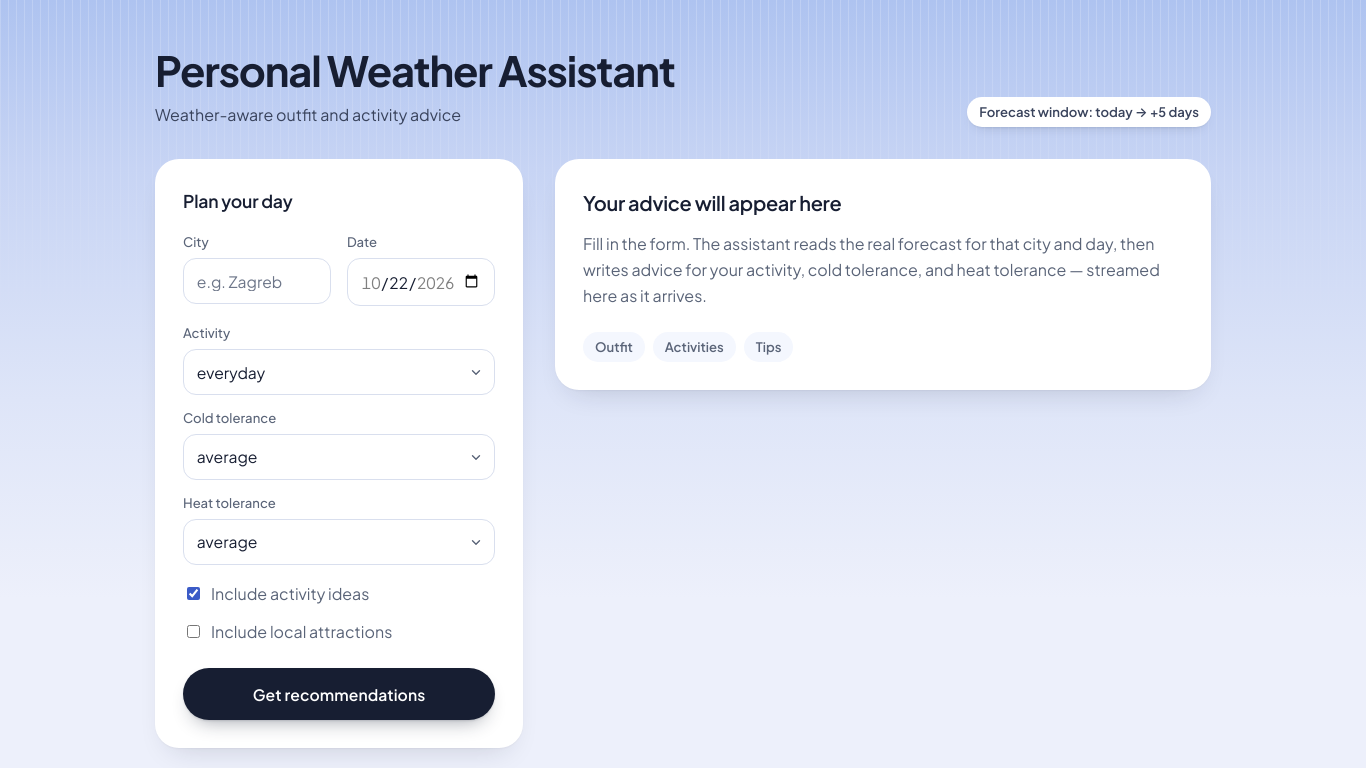
Test: App day mode › renders weather then streams the recommendation
This screenshot has width=1366, height=768.
Step 1. Type "Zagreb" into the field labelled "City" → x=257, y=281, box [183,258,331,304]
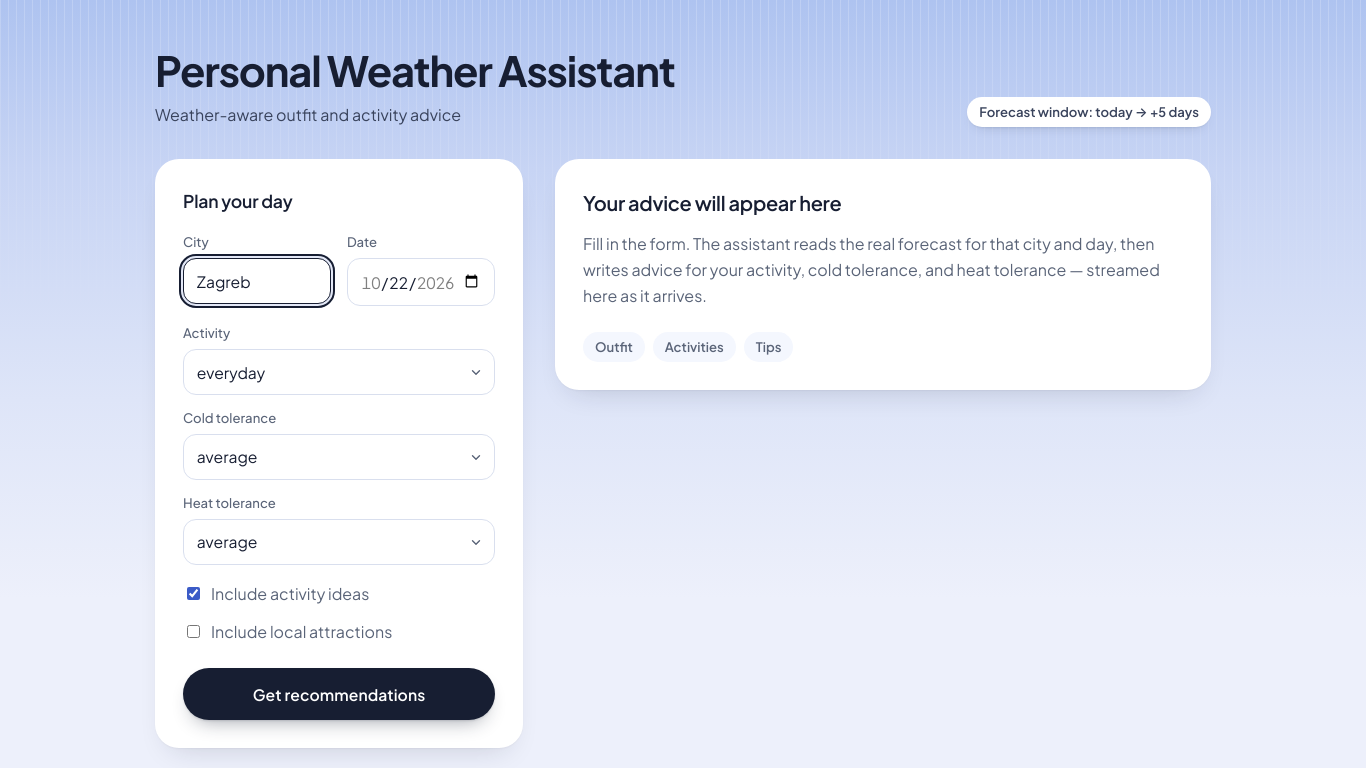
Step 2. Click the button "Get recommendations" → x=339, y=694, box [183,668,495,720]
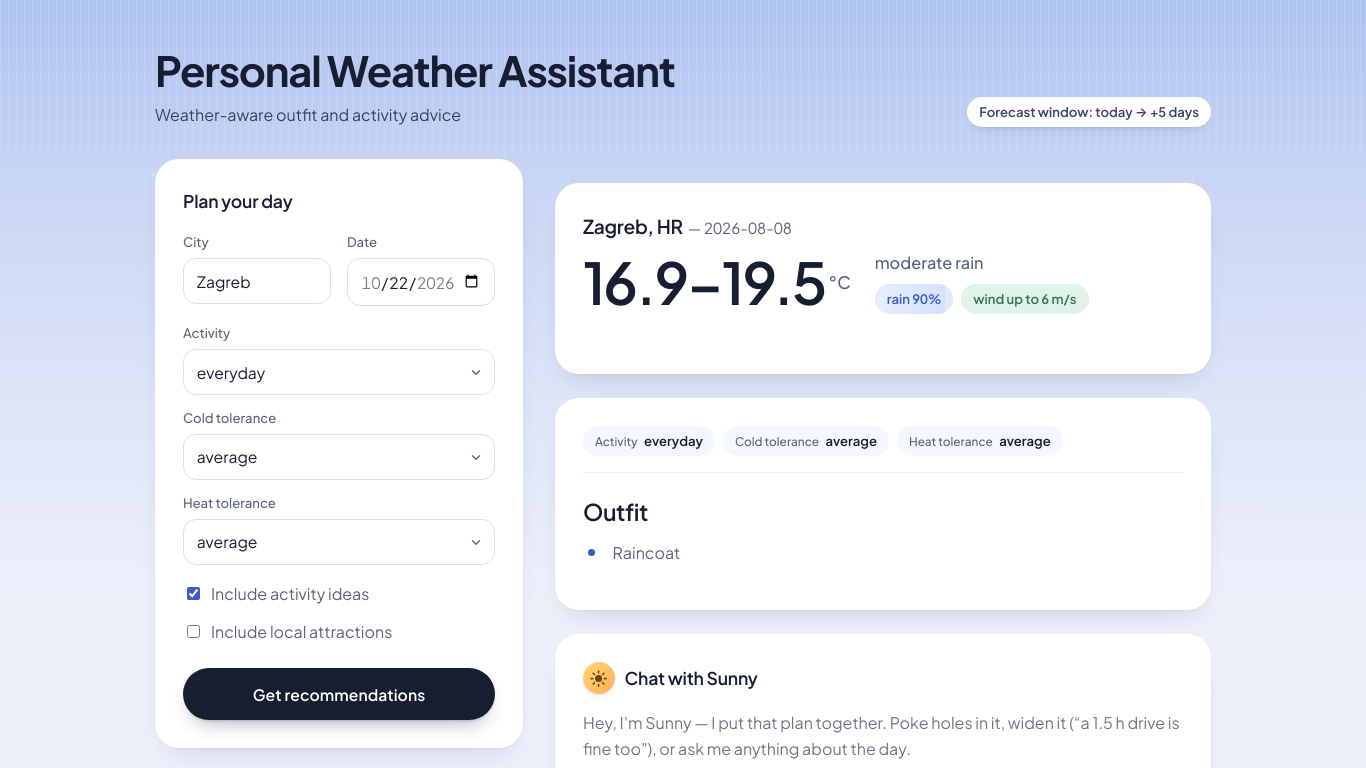
Check: the heading "Outfit" is shown, box [583,497,648,526]
Check: the text "Zagreb, HR" is shown, box [583,214,683,238]
